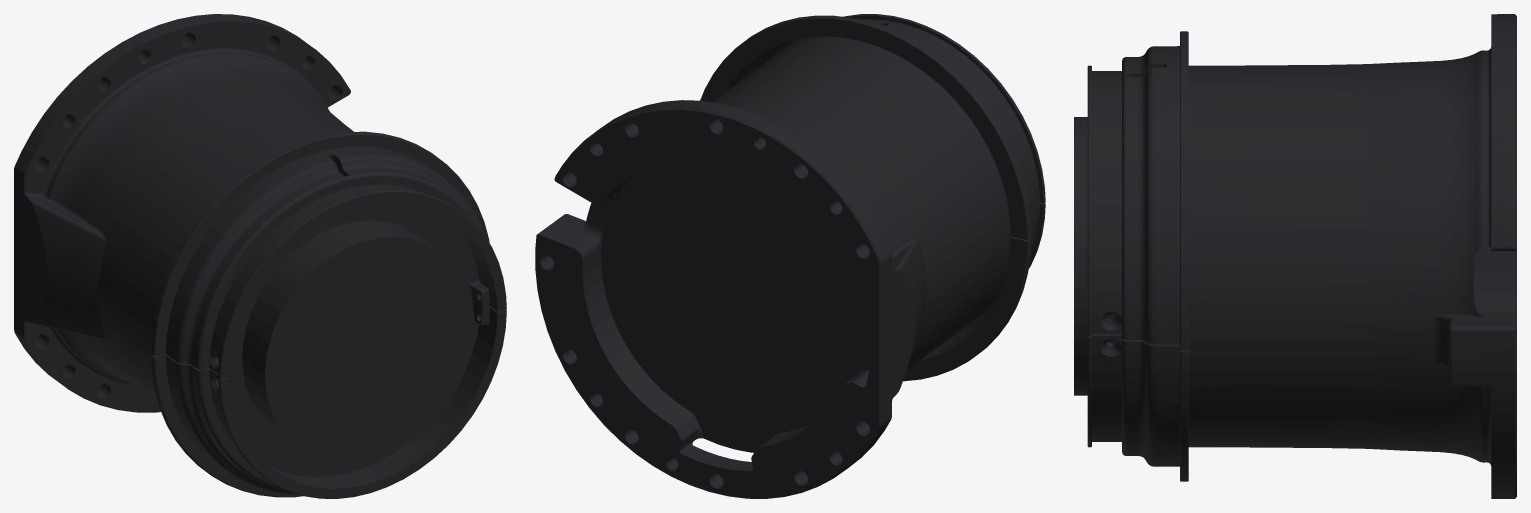
File: AR5_5_08R_W4C4A6_base_vis.obj
3 views of the same model, side by side, from view 1: azimuth 30°, elevation 25°; view 2: azimuth 150°, elevation 25°; view 3: azimuth 270°, elevation 25° (orthographic). The views are drawn at different scales.
Visible parts, largest first — view 1: AR5_5_08R_W4C4A6_base; view 2: AR5_5_08R_W4C4A6_base; view 3: AR5_5_08R_W4C4A6_base.
Boxes of the visible parts, <box> form: AR5_5_08R_W4C4A6_base: <box>14,14,506,498</box>; AR5_5_08R_W4C4A6_base: <box>535,14,1045,498</box>; AR5_5_08R_W4C4A6_base: <box>1074,14,1516,498</box>.
Size of the model in its own units: 0.109 by 0.113 by 0.1032.
1 material, 1 textured.
